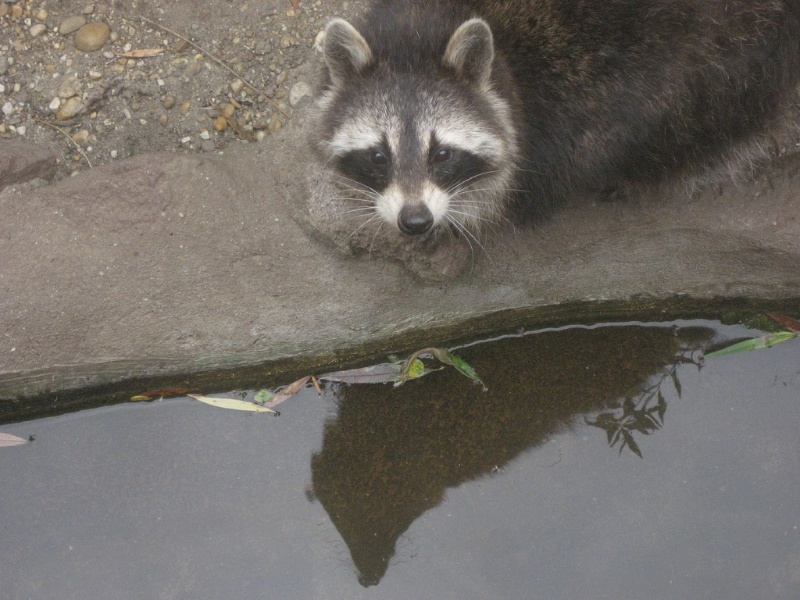raccoon: (294, 4, 800, 259)
